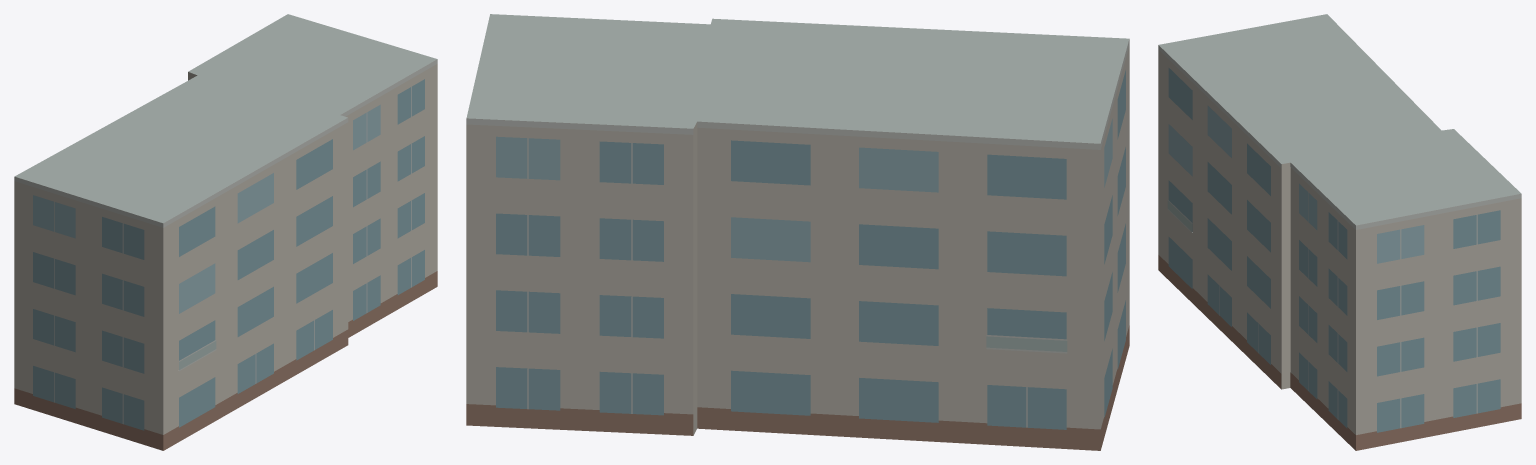
The model's file is survey-upis-32701731.glb.
The picture shows the model from 3 angles, left to right: view 1: azimuth 30°, elevation 25°; view 2: azimuth 150°, elevation 25°; view 3: azimuth 270°, elevation 25°; orthographic projection. The views are drawn at different scales.
Parts seen in each view (by area): view 1: survey-upis-32701731.tmp; view 2: survey-upis-32701731.tmp; view 3: survey-upis-32701731.tmp.
Boxes of the visible parts, x1,y1,x2,y2 form: survey-upis-32701731.tmp: (14, 14, 437, 450); survey-upis-32701731.tmp: (466, 14, 1129, 450); survey-upis-32701731.tmp: (1158, 14, 1521, 450).
Bounding box in the file's own units: 24.57 × 12.2 × 17.83.
